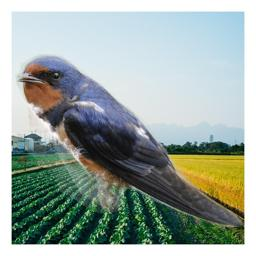Swallow: (15, 54, 242, 227)
